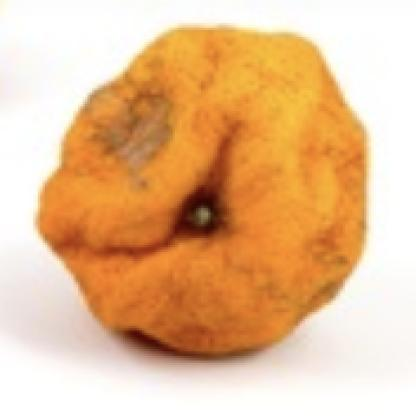rotten: (38, 25, 373, 360)
